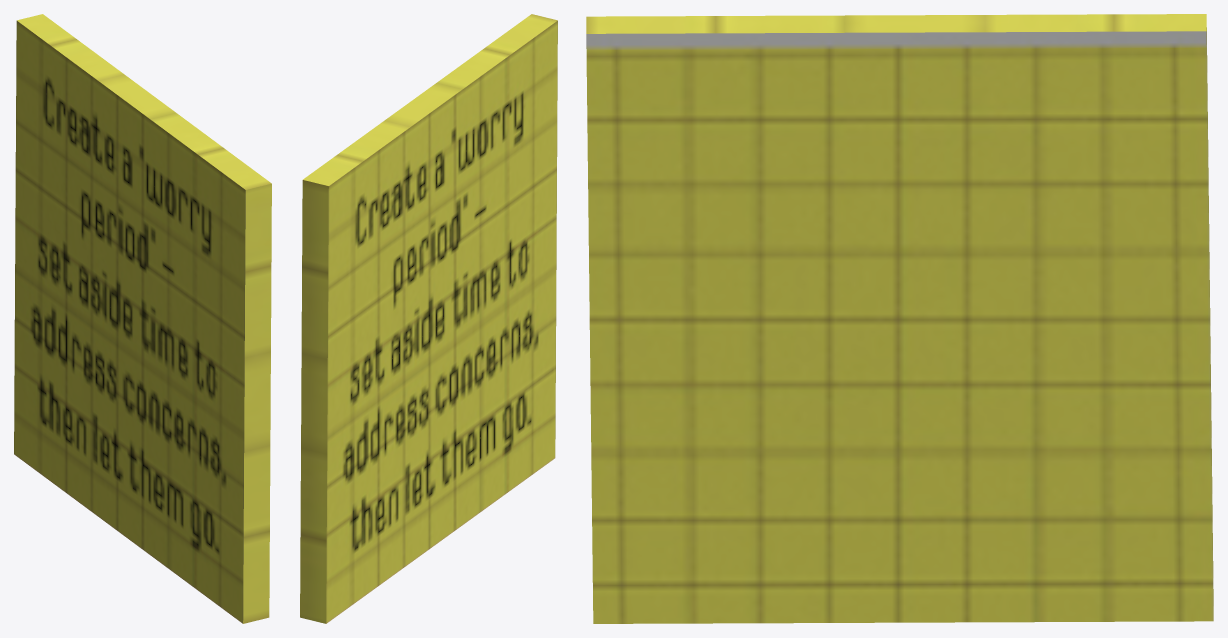
File: note6.fbx
3 views of the same model, side by side, from view 1: azimuth 30°, elevation 25°; view 2: azimuth 150°, elevation 25°; view 3: azimuth 270°, elevation 25° (orthographic). The views are drawn at different scales.
Visible parts, largest first — view 1: note6; view 2: note6; view 3: note6.
Part boxes in pixels (left/top/right/bottom): note6: left=14, top=14, right=271, bottom=623; note6: left=300, top=14, right=557, bottom=623; note6: left=586, top=14, right=1213, bottom=623.
Bounding box in the file's own units: 1.53 × 24.35 × 23.36.
Materials: 1 (1 with a texture image).
